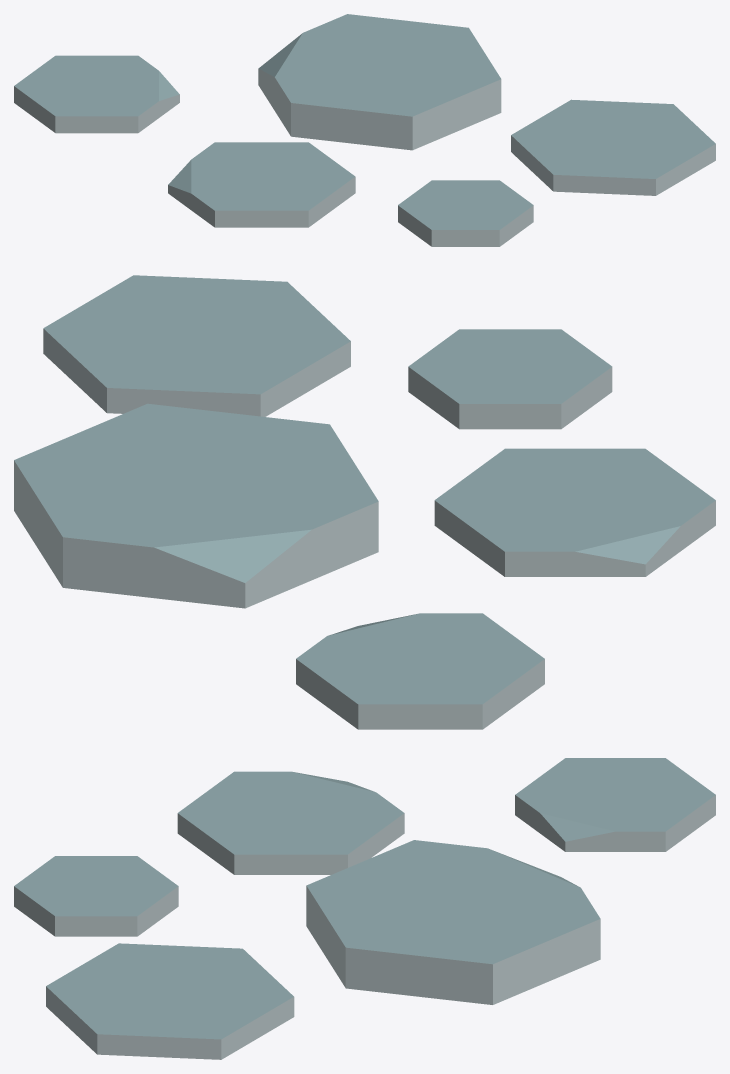
File: path_stoneCorner.glb
3 renders of one model, top to bottom at view 1: azimuth 30°, elevation 25°; view 2: azimuth 150°, elevation 25°; view 3: azimuth 270°, elevation 25°, orthographic. The views are drawn at different scales.
Parts seen in each view (by area): view 1: path_stoneCorner; view 2: path_stoneCorner; view 3: path_stoneCorner.
Part boxes in pixels (<box>): path_stoneCorner: <box>14,14,715,246</box>; path_stoneCorner: <box>14,275,715,729</box>; path_stoneCorner: <box>14,758,715,1059</box>.
Bounding box in the file's own units: 0.7383 × 0.05 × 0.7784.
